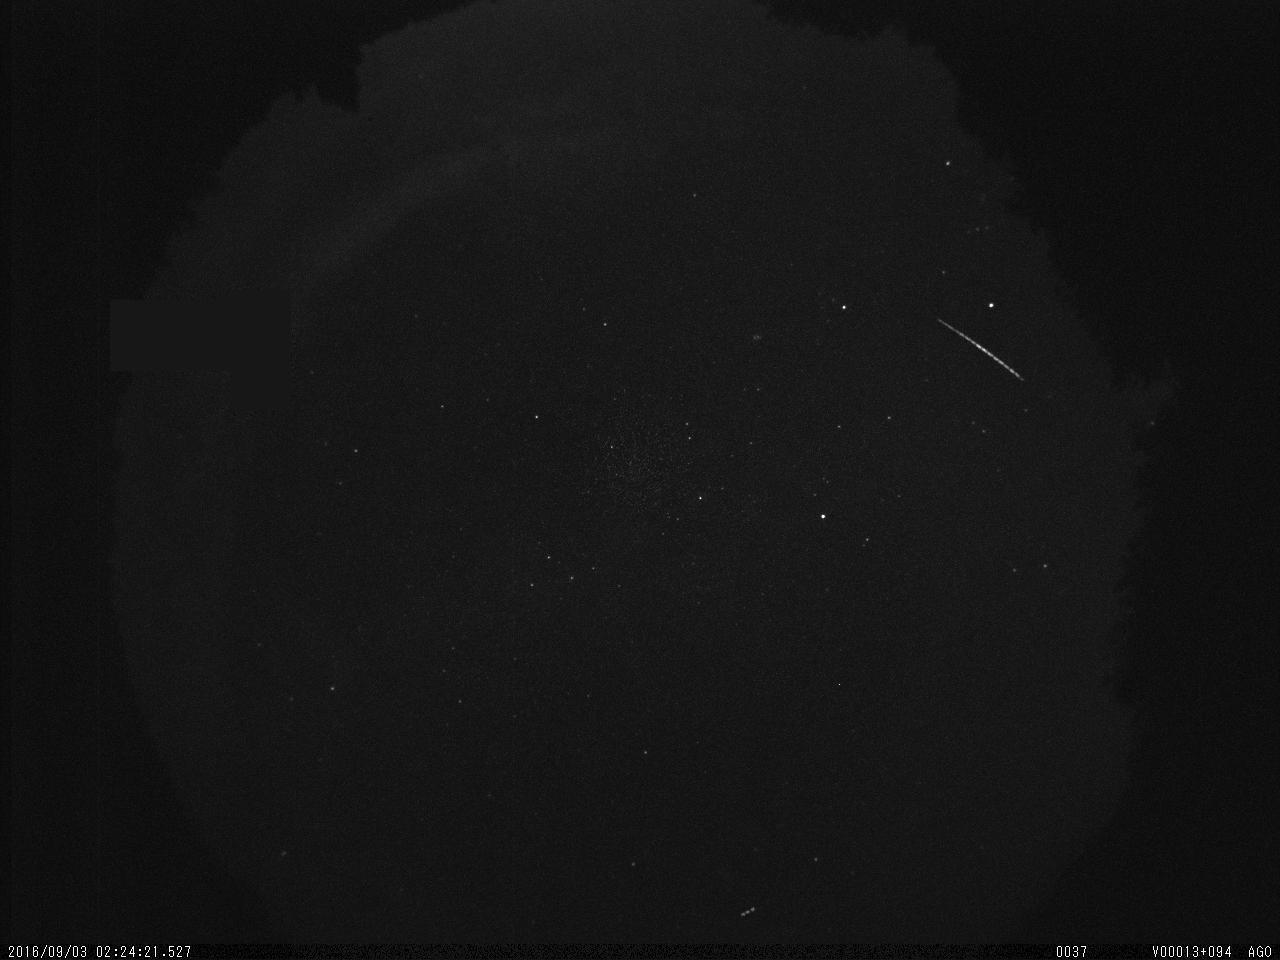meteor: (930, 312, 1034, 399)
